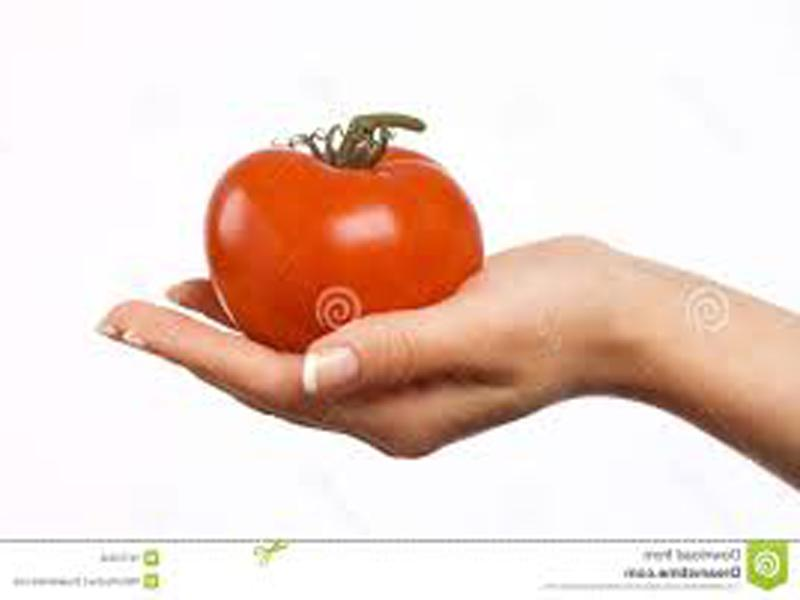Tomato: (205, 147, 483, 351)
